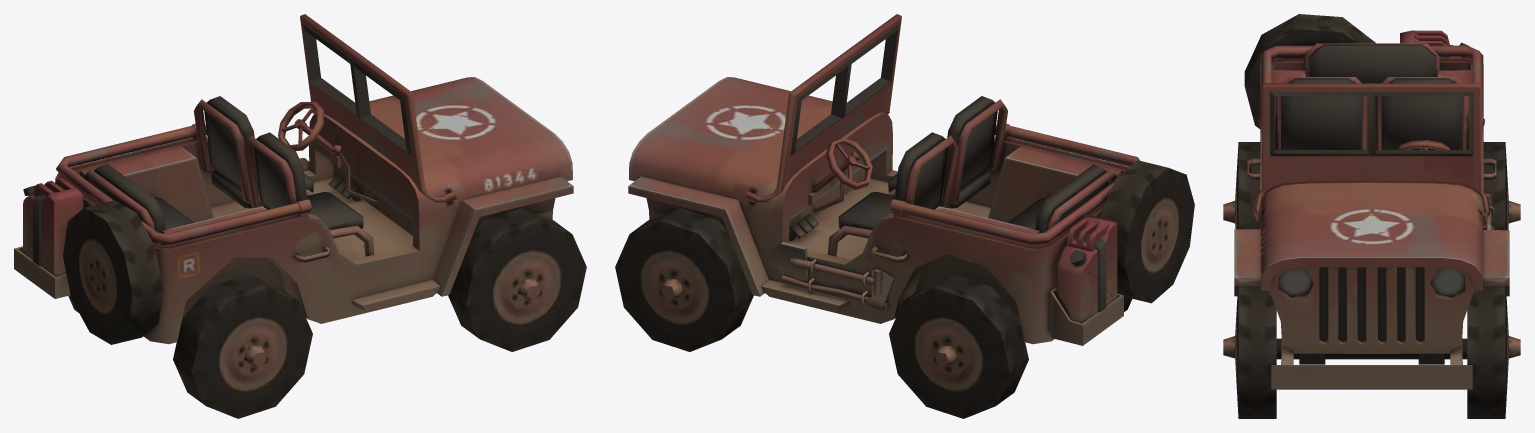
The picture shows the model from 3 angles, left to right: view 1: azimuth 30°, elevation 25°; view 2: azimuth 150°, elevation 25°; view 3: azimuth 270°, elevation 25°; orthographic projection.
Parts seen in each view (by area): view 1: body0_model0_lod0_mesh0; view 2: body0_model0_lod0_mesh0; view 3: body0_model0_lod0_mesh0, body0_model0_lod0_mesh1.
Boxes of the visible parts, box(x1,y1,x2,y2) form: body0_model0_lod0_mesh0: box(14, 14, 586, 418); body0_model0_lod0_mesh0: box(615, 14, 1194, 418); body0_model0_lod0_mesh0: box(1223, 14, 1520, 418); body0_model0_lod0_mesh1: box(1278, 268, 1465, 297).
Bounding box in the file's own units: 8.77 × 4.95 × 4.84.
2 materials, 2 textured.
